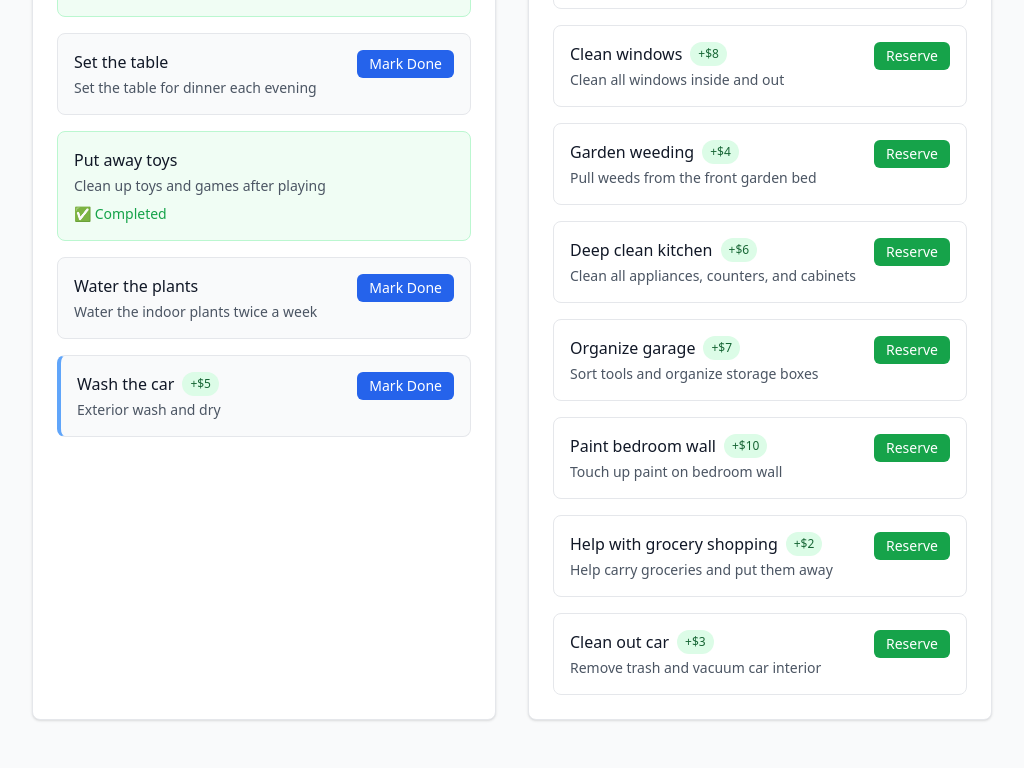
Test: ChildDashboard › should handle completing a reserved task
This screenshot has width=1024, height=768.
(page scrolled)
Expected: the number of headings "Wash the car" is 1, [77,372,174,396]
Note: Find the specific "Mark Done" button for the "Wash the car" task
Click the button "Mark Done" in the row of "Wash the car" at (406, 386), box [357,372,454,400]
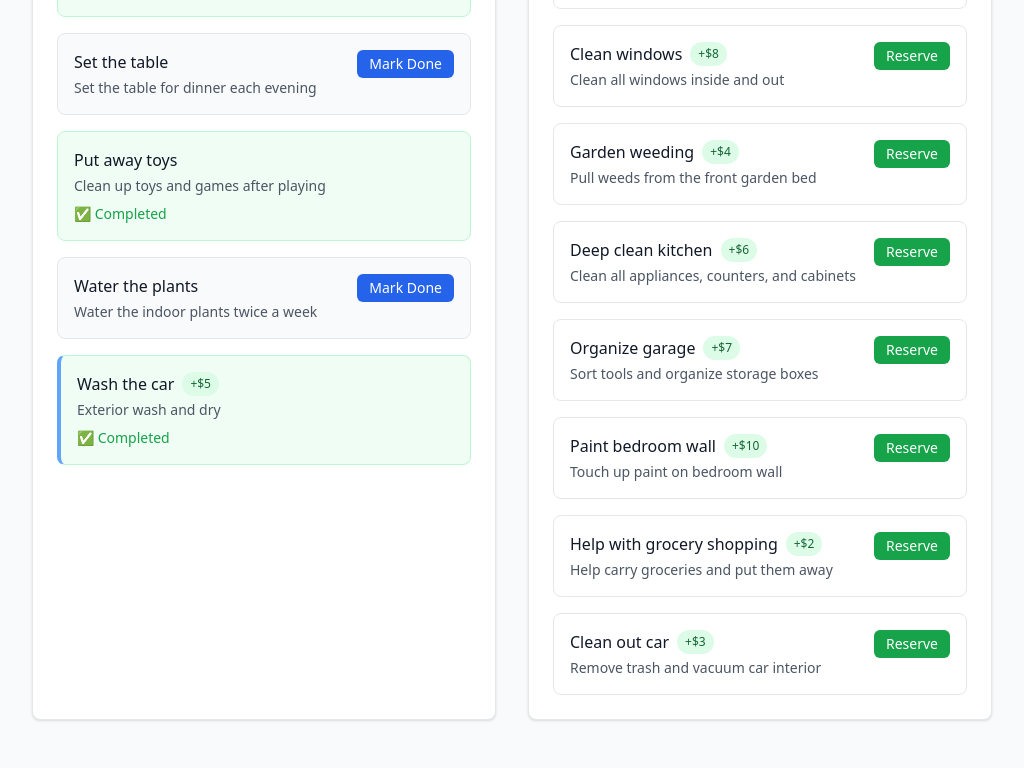
Expected: the text "✅ Completed" is shown 3 times
